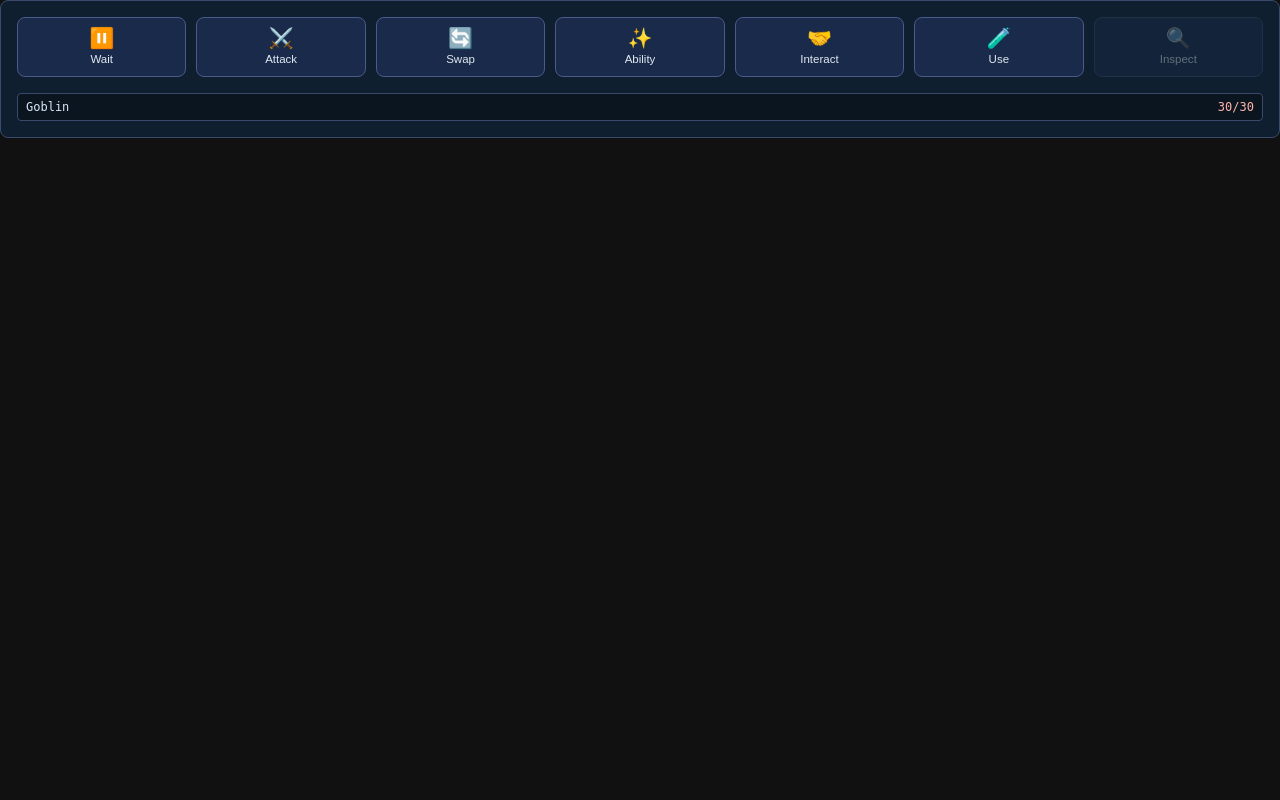
Test case: UnifiedActionPanel › Dropdown Actions › opens ability dropdown when Ability button clicked
The image size is (1280, 800).
Click the button "✨ Ability" at (640, 47), box [555, 17, 725, 76]
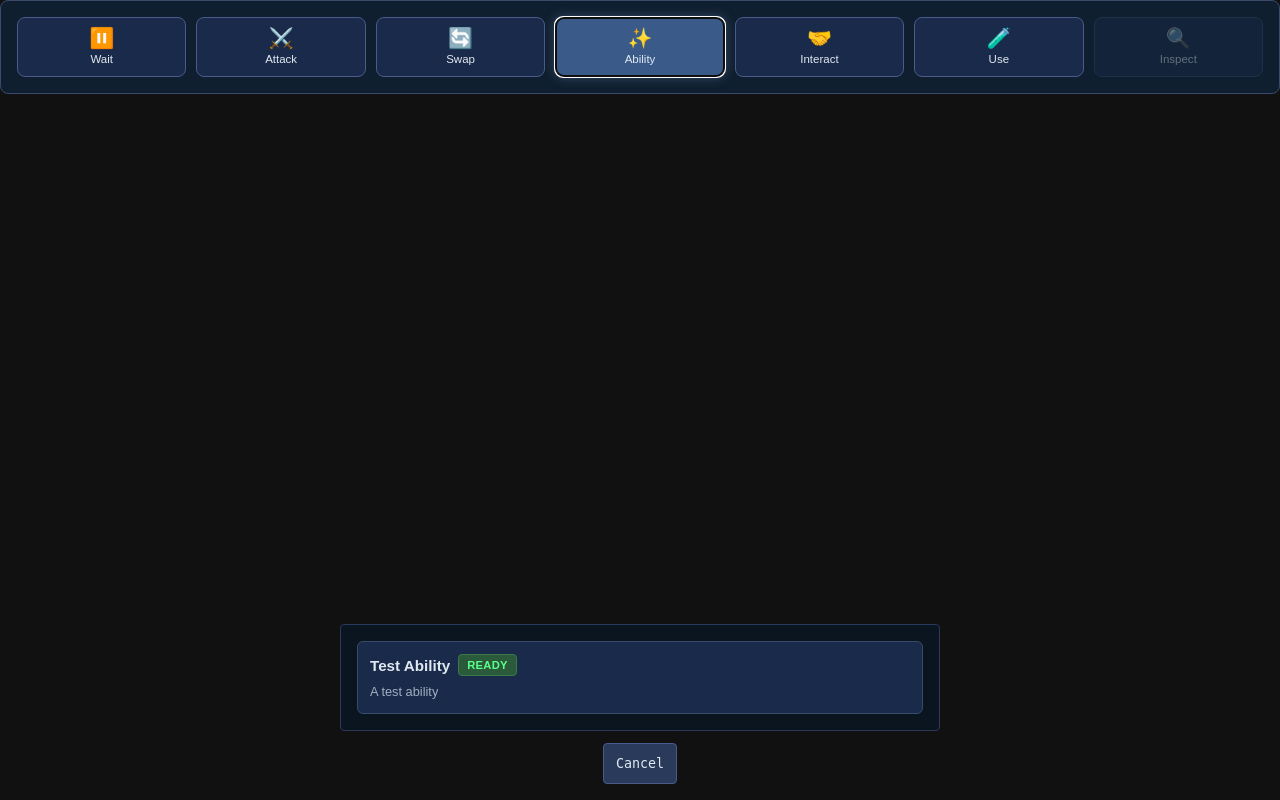
expect the text "Test Ability" is shown: met, box [370, 657, 450, 674]
